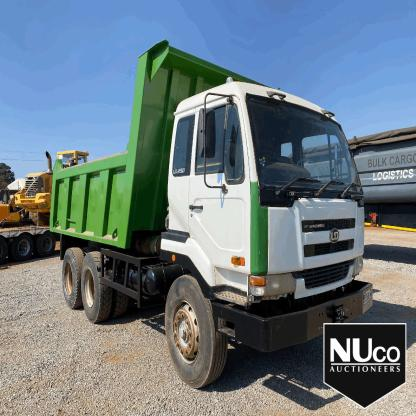dump_truck: (50, 26, 386, 400)
